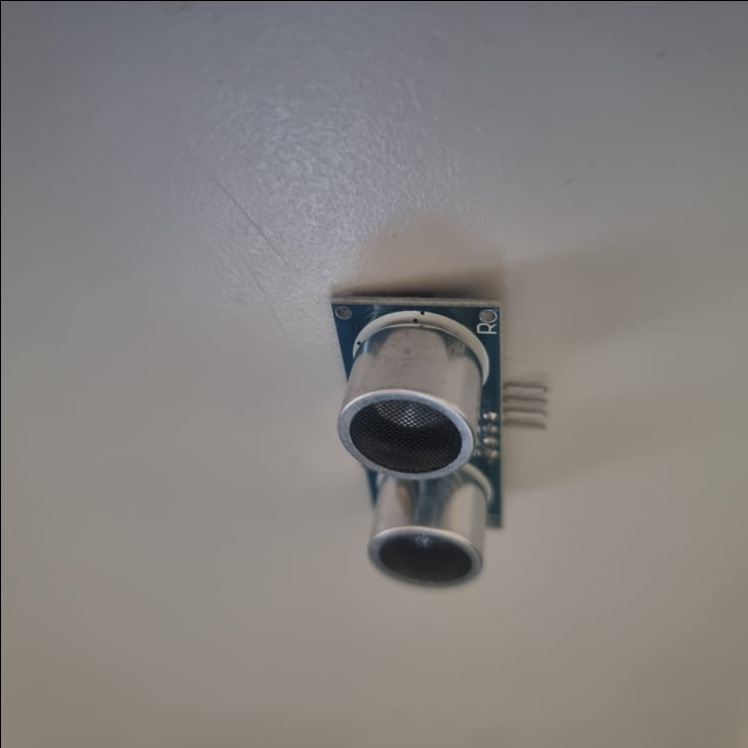SENSOR: (327, 295, 510, 590)
